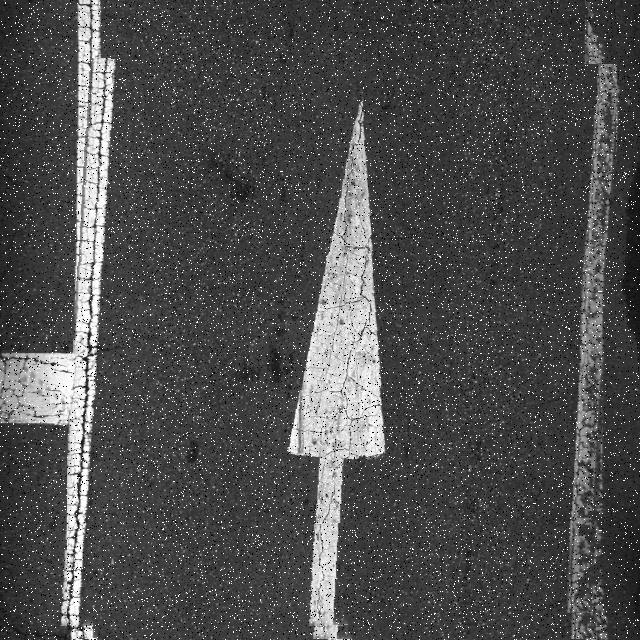forward: (67, 64, 617, 640)
